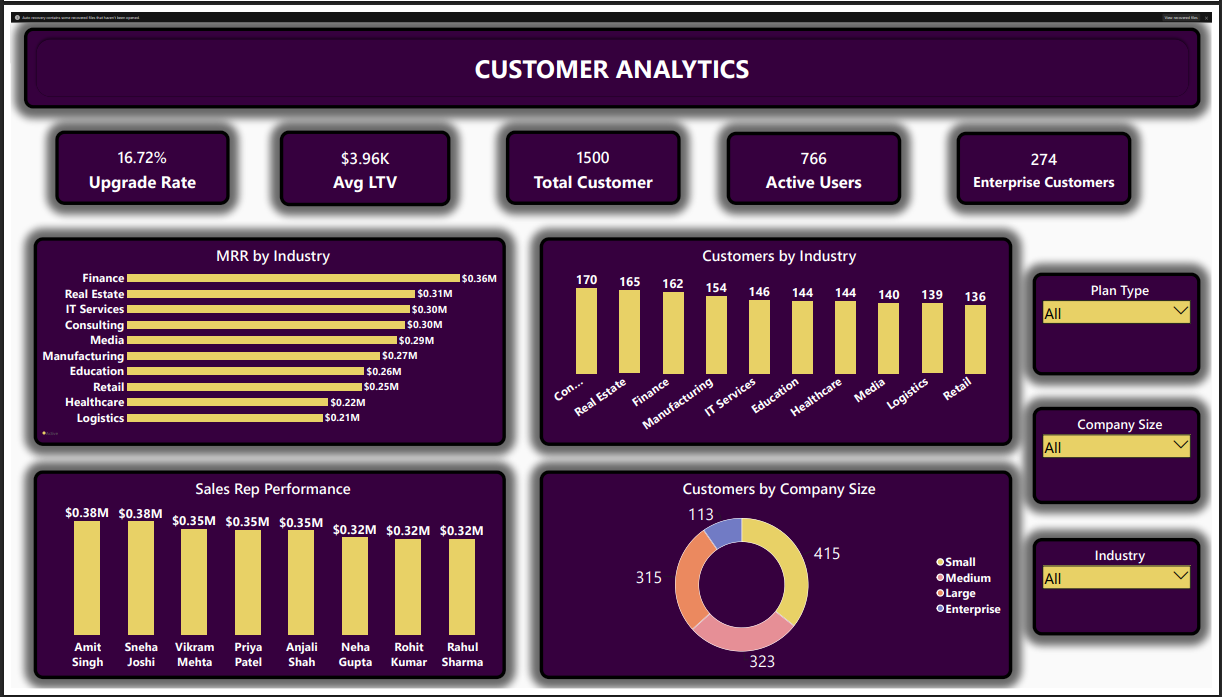

The page's visual inventory and layout, read from the dashboard file:
{"tool":"powerbi","page":{"name":"CUSTOMER ANALYTICS","canvas":[3840,2160],"ordinal":1},"visuals":[{"type":"shape","box":[43.3,47.6,3761.3,259.7],"z":0},{"type":"card","title":"Total Revenue","fields":{"Values":["crm_subscriptions_clean.Total Customer"]},"box":[1584.2,376.6,558.3,238.1],"z":1000},{"type":"card","title":"Total Revenue","fields":{"Values":["crm_subscriptions_clean.Upgrade Rate"]},"box":[142.8,376.6,558.3,238.1],"z":2000},{"type":"card","title":"Total Revenue","fields":{"Values":["crm_subscriptions_clean.Active Users"]},"box":[2289.7,380.9,558.3,233.7],"z":3000},{"type":"card","title":"Total Revenue","fields":{"Values":["crm_subscriptions_clean.Avg LTV"]},"box":[861.3,376.6,545.4,242.4],"z":4000},{"type":"clusteredBarChart","title":"MRR by Industry","fields":{"Category":["crm_customers_clean.industry"],"Series":["crm_subscriptions_clean.status"],"Y":["crm_subscriptions_clean.Total MRR"]},"box":[73.6,718.5,1510.6,666.6],"z":5000},{"type":"donutChart","title":"Customers by Company Size","fields":{"Category":["crm_customers_clean.company_size"],"Y":["CountNonNull(crm_subscriptions_clean.customer_id)"]},"box":[1692.4,1463,1510.6,666.6],"z":6000},{"type":"columnChart","title":"Sales Rep Performance","fields":{"Category":["crm_customers_clean.sales_rep"],"Y":["crm_subscriptions_clean.Total MRR"]},"box":[73.6,1463,1510.6,666.6],"z":7000},{"type":"columnChart","title":"Customers by Industry","fields":{"Category":["crm_customers_clean.industry"],"Series":["crm_subscriptions_clean.status"],"Y":["crm_subscriptions_clean.Total Customer"]},"box":[1692.4,718.5,1510.6,666.6],"z":8000},{"type":"slicer","title":"Plan Type","fields":{"Values":["crm_subscriptions_clean.plan_type"]},"box":[3267.9,831,536.7,328.9],"z":9000},{"type":"slicer","title":"Company Size","fields":{"Values":["crm_customers_clean.company_size"]},"box":[3267.9,1259.5,536.7,311.6],"z":10000},{"type":"slicer","title":"Industry","fields":{"Values":["crm_customers_clean.industry"]},"box":[3267.9,1679.4,536.7,311.6],"z":11000},{"type":"card","title":"Total Revenue","fields":{"Values":["crm_customers_clean.Enterprise Customers"]},"box":[3025.5,380.9,558.3,233.7],"z":11001}]}

Visuals, with their boxes on the page's 3840x2160 design canvas (x1, y1, x2, y2). These are canvas units, not pixel positions in the 1222x697 screenshot, which may show the page scaled, cropped or inside an application window:
shape: <bbox>43, 48, 3805, 307</bbox>
"Total Revenue" card: <bbox>1584, 377, 2142, 615</bbox>
"Total Revenue" card: <bbox>143, 377, 701, 615</bbox>
"Total Revenue" card: <bbox>2290, 381, 2848, 615</bbox>
"Total Revenue" card: <bbox>861, 377, 1407, 619</bbox>
"MRR by Industry" clusteredBarChart: <bbox>74, 718, 1584, 1385</bbox>
"Customers by Company Size" donutChart: <bbox>1692, 1463, 3203, 2130</bbox>
"Sales Rep Performance" columnChart: <bbox>74, 1463, 1584, 2130</bbox>
"Customers by Industry" columnChart: <bbox>1692, 718, 3203, 1385</bbox>
"Plan Type" slicer: <bbox>3268, 831, 3805, 1160</bbox>
"Company Size" slicer: <bbox>3268, 1260, 3805, 1571</bbox>
"Industry" slicer: <bbox>3268, 1679, 3805, 1991</bbox>
"Total Revenue" card: <bbox>3026, 381, 3584, 615</bbox>
